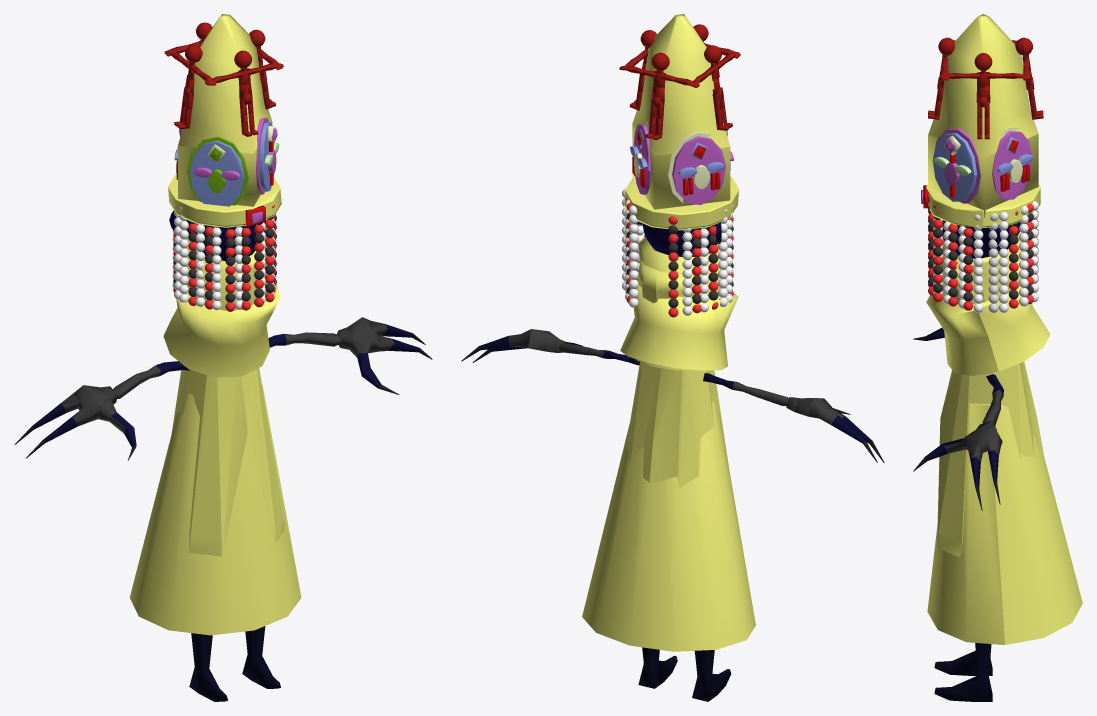
File: esu_hastur_final.fbx
The picture shows the model from 3 angles, left to right: view 1: azimuth 30°, elevation 25°; view 2: azimuth 150°, elevation 25°; view 3: azimuth 270°, elevation 25°; orthographic projection.
Visible parts, largest first — view 1: mesh02, mesh01, mesh05, mesh11, mesh19, mesh03, mesh562, mesh91, mesh07, mesh04, mesh113, mesh115 (+3 smaller); view 2: mesh02, mesh01, mesh05, mesh11, mesh562, mesh19, mesh03, mesh95, mesh07, mesh113, mesh04, mesh362 (+3 smaller); view 3: mesh02, mesh05, mesh01, mesh11, mesh03, mesh562, mesh105, mesh04, mesh114, mesh348, mesh07, mesh111 (+5 smaller).
Part boxes in pixels (x1,y1,x2,y2): mesh02: (129,384,301,635); mesh01: (171,368,284,556); mesh05: (178,14,272,206); mesh11: (163,237,280,377); mesh19: (14,361,190,460); mesh03: (268,317,432,394); mesh562: (168,174,281,227); mesh91: (189,140,244,206); mesh07: (189,633,227,701); mesh04: (242,626,280,688); mesh113: (168,45,216,129); mesh115: (205,51,282,136); mesh02: (582,400,755,651); mesh01: (625,259,728,488); mesh05: (632,14,730,209); mesh11: (620,237,738,370); mesh562: (624,176,738,230); mesh19: (703,373,884,462); mesh03: (461,329,639,365); mesh95: (672,136,725,205); mesh07: (692,650,731,701); mesh113: (693,45,739,130); mesh04: (638,647,677,688); mesh362: (619,52,699,139); mesh02: (927,403,1082,644); mesh05: (928,14,1038,217); mesh01: (937,260,1044,556); mesh11: (926,233,1050,375); mesh03: (913,374,1003,510); mesh562: (926,184,1040,227); mesh105: (932,133,977,201); mesh04: (934,643,992,701); mesh114: (939,53,1026,139); mesh348: (992,131,1032,199); mesh07: (934,650,992,675); mesh111: (936,128,980,203).
Bounding box in the file's own units: 118 × 183 × 42.29.
